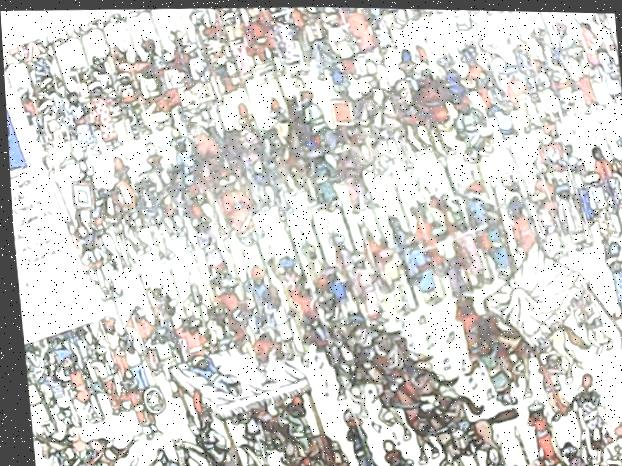waldo: (185, 121, 206, 142)
